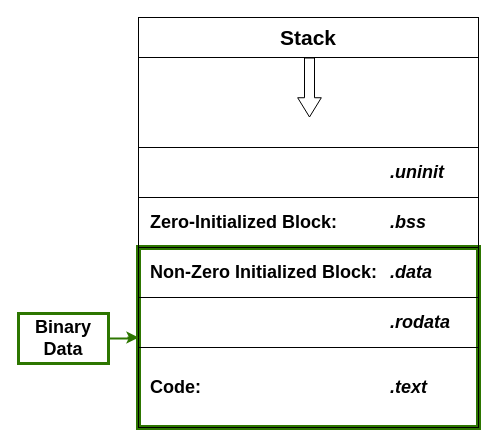
This 498x447 diagram has some shape labels left out. The box of each missing label's shape, as (x1, y1, x2, y2) in pixels:
Read-Only data:: (138, 296, 478, 348)
Uninitialized Block:: (138, 146, 478, 198)
